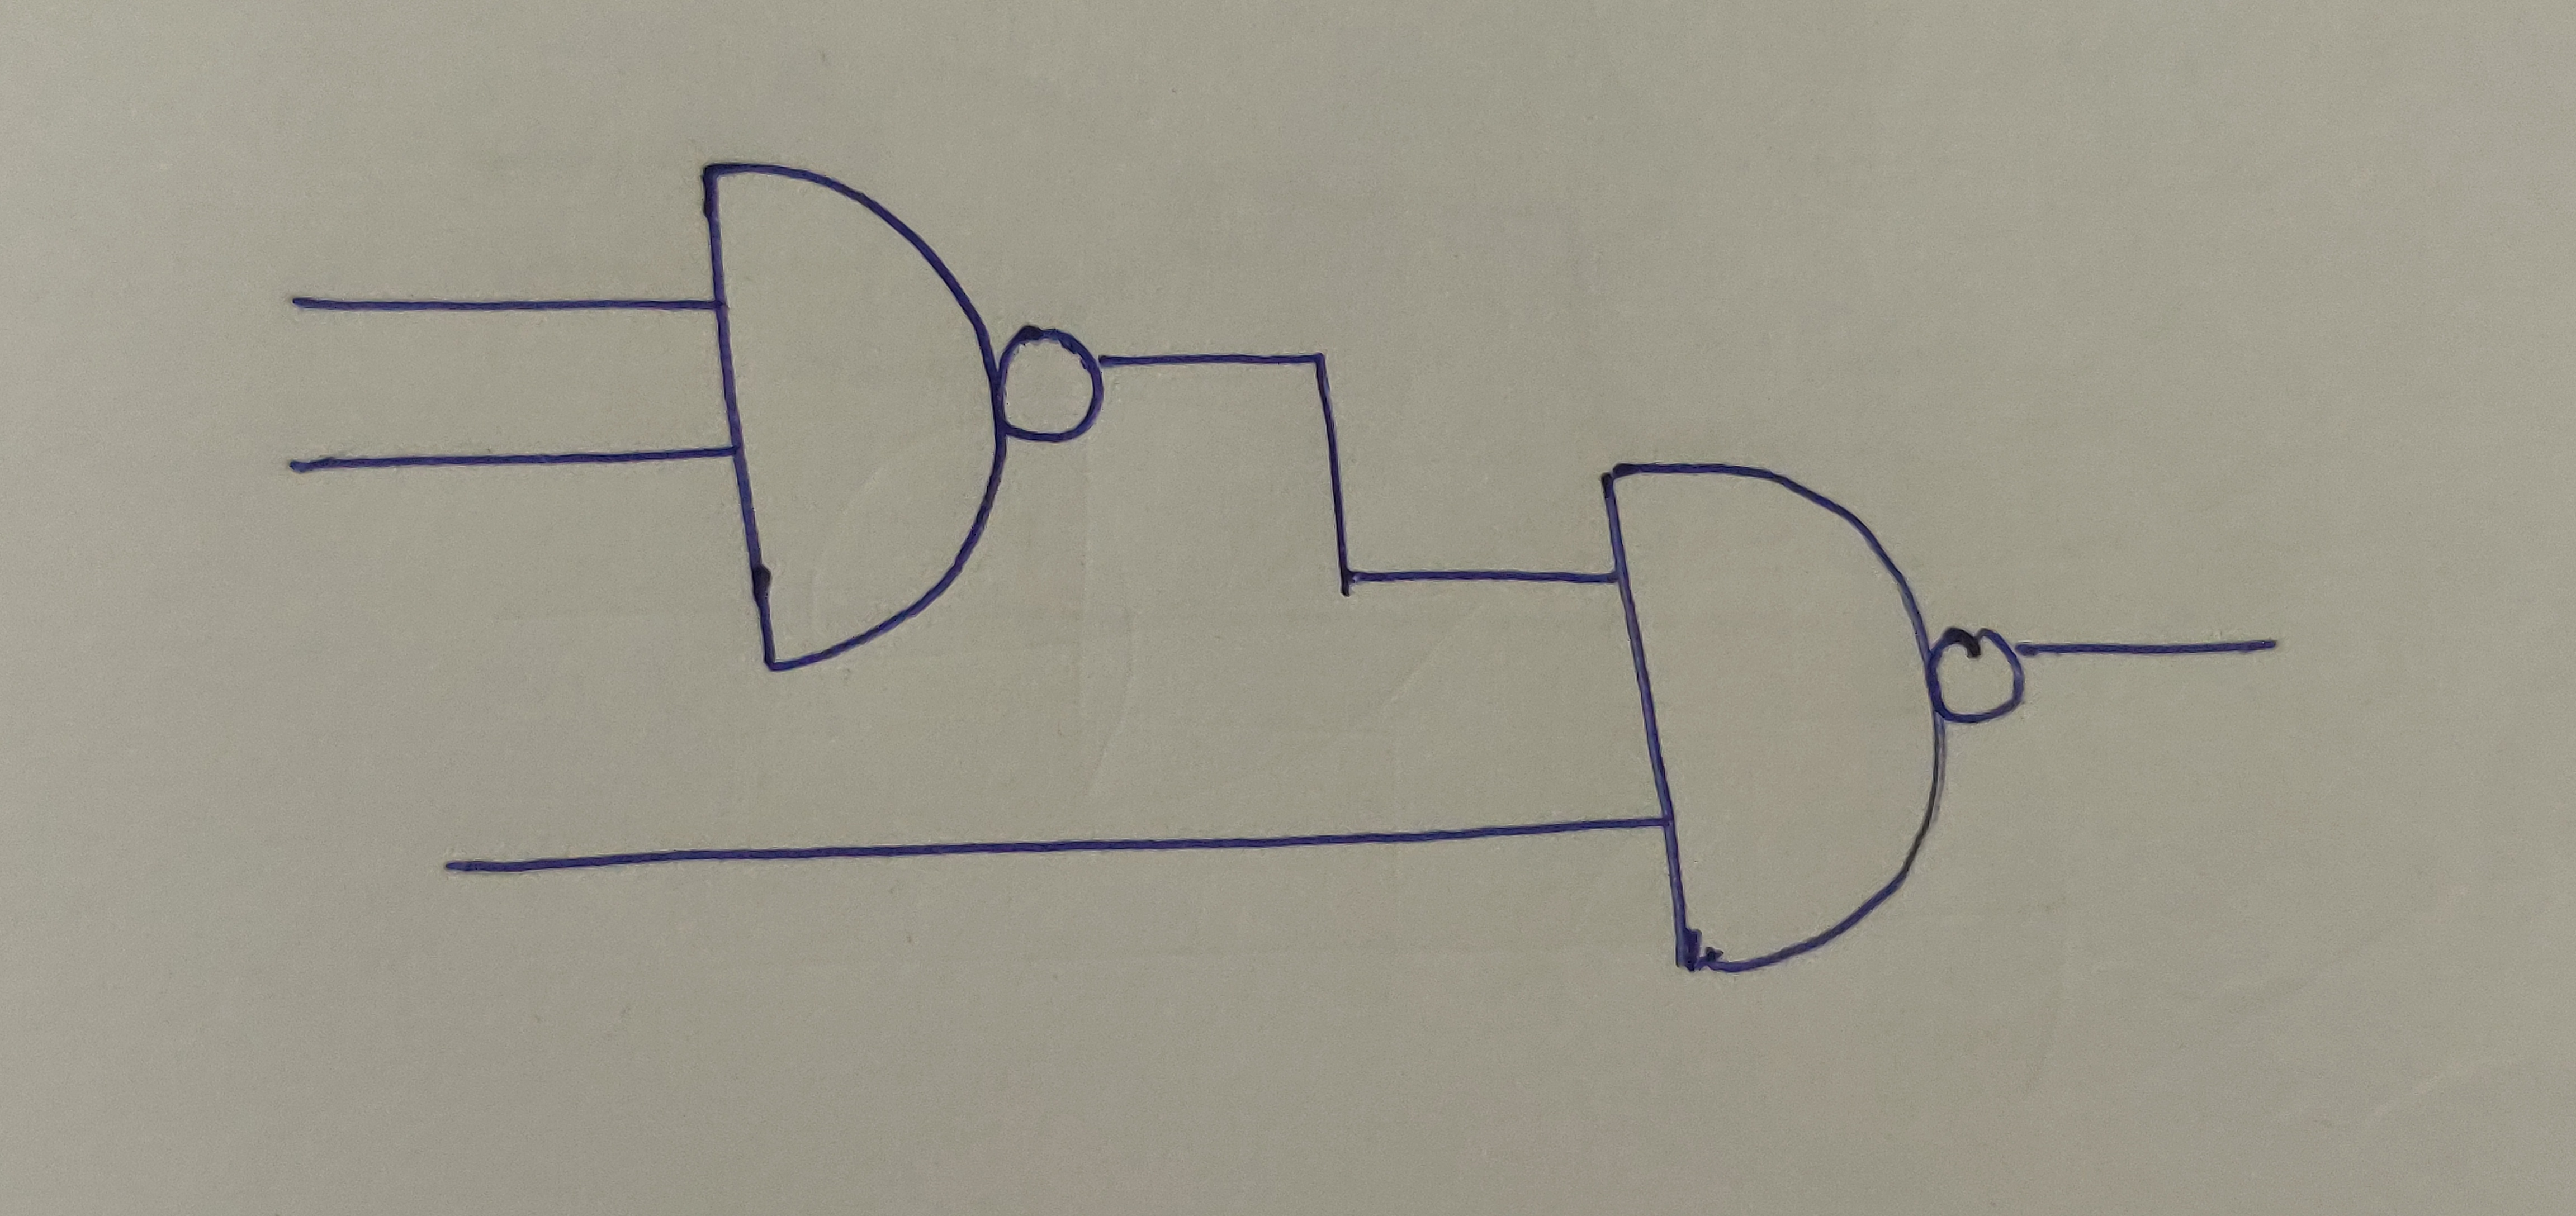and: (1587, 454, 1939, 963), (693, 153, 1001, 679)
not: (994, 324, 1106, 442), (1939, 634, 2029, 721)
